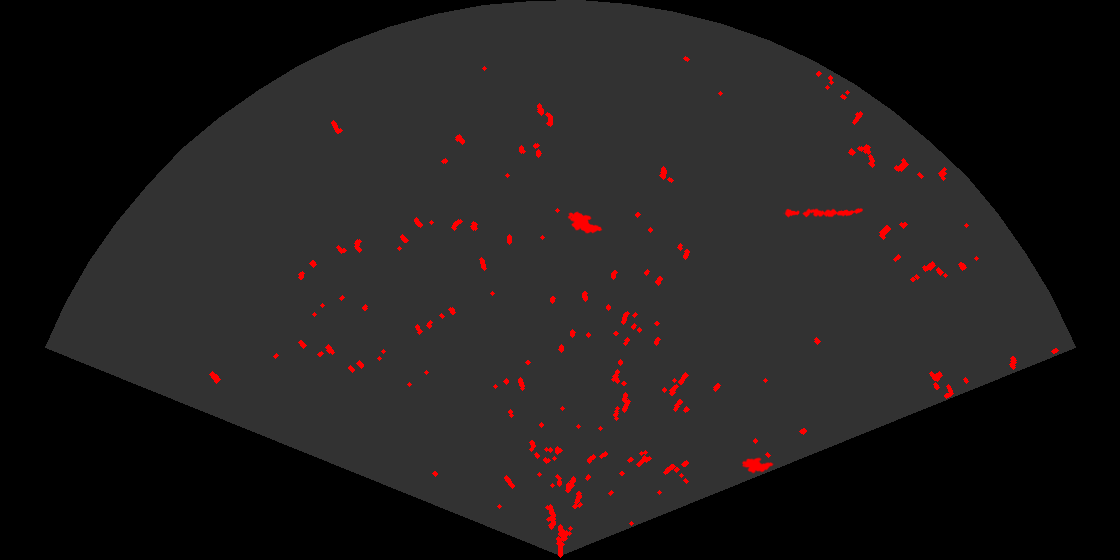AUV: (566, 210, 604, 235), (740, 456, 775, 475)
chain: (783, 207, 863, 219)
